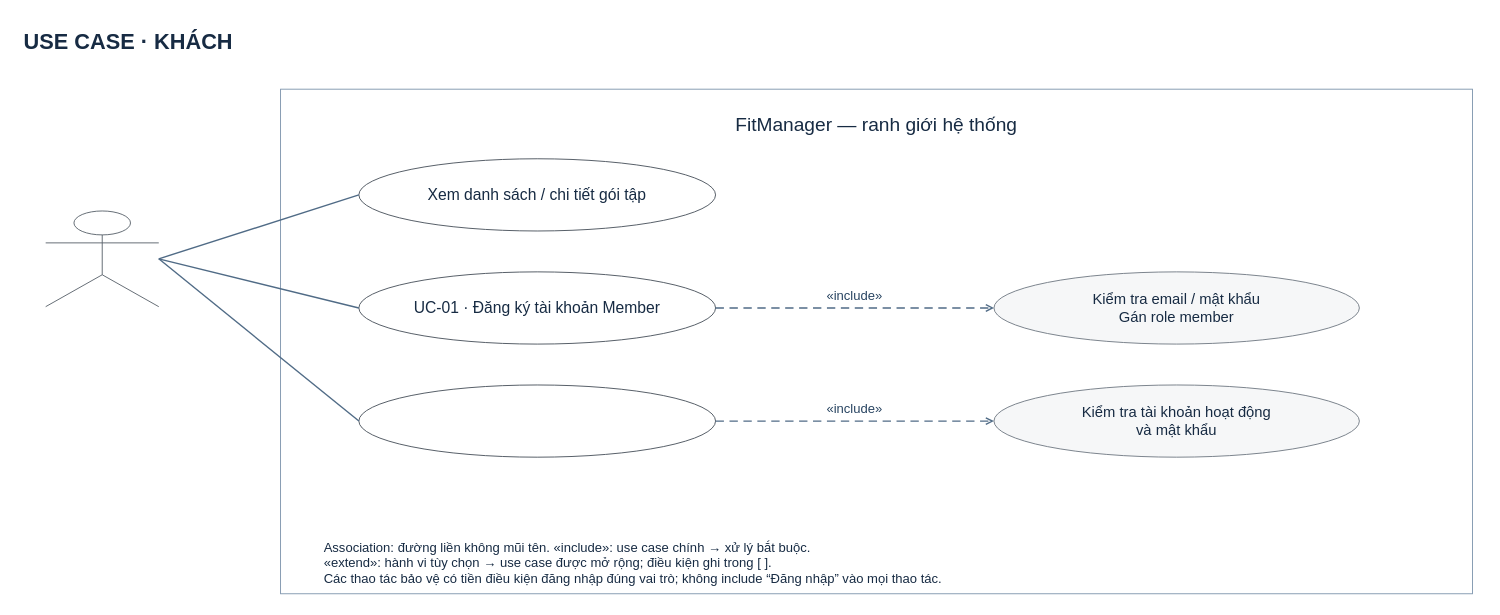
The diagram is 1500 pixels wide and 615 high, and some of its shapes have lost their labels. Each missing label, with the centre of its shape:
"Khách" goes at (102,258).
"UC-02 · Đăng nhập" goes at (537,420).
